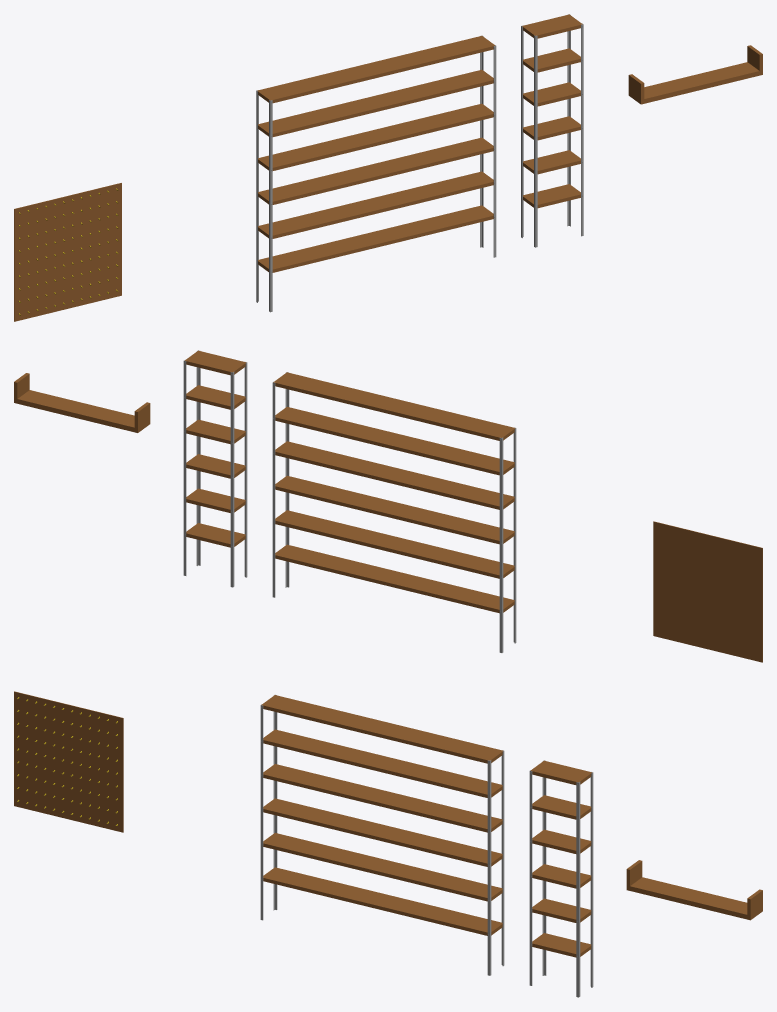
The model's file is Storage Racks.fbx.
3 views of the same model, one above another, from view 1: azimuth 30°, elevation 25°; view 2: azimuth 150°, elevation 25°; view 3: azimuth 330°, elevation 25° (orthographic).
Visible parts, largest first — view 1: Storage Rack Large, Key Rack, Storage Rack Small, Cube; view 2: Storage Rack Large, Key Rack, Storage Rack Small, Cube; view 3: Storage Rack Large, Key Rack, Storage Rack Small, Cube.
Boxes of the visible parts, x1,y1,x2,y2 form: Storage Rack Large: [256, 35, 496, 312]; Key Rack: [14, 183, 121, 321]; Storage Rack Small: [521, 14, 583, 247]; Cube: [628, 45, 762, 104]; Storage Rack Large: [272, 372, 516, 652]; Key Rack: [653, 521, 762, 662]; Storage Rack Small: [183, 350, 247, 587]; Cube: [14, 373, 150, 432]; Storage Rack Large: [260, 694, 504, 975]; Key Rack: [14, 691, 123, 832]; Storage Rack Small: [529, 760, 593, 997]; Cube: [626, 860, 762, 920].
Bounding box in the file's own units: 8.3 × 2.28 × 0.3776.
